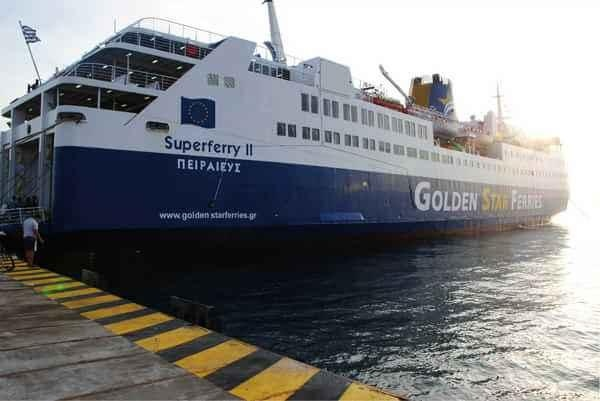youlun: (14, 24, 576, 247)
